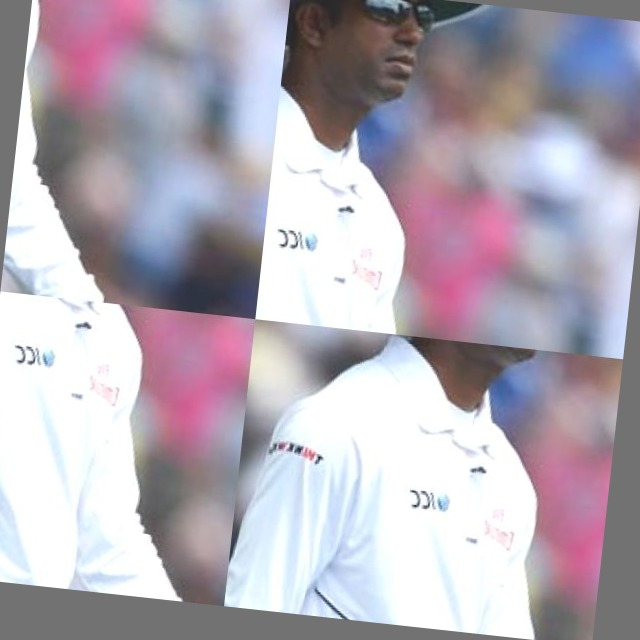No_Action: (224, 319, 623, 640)
No_Ball: (0, 0, 292, 319)
Out: (255, 23, 394, 331)
Six: (0, 291, 177, 598)
